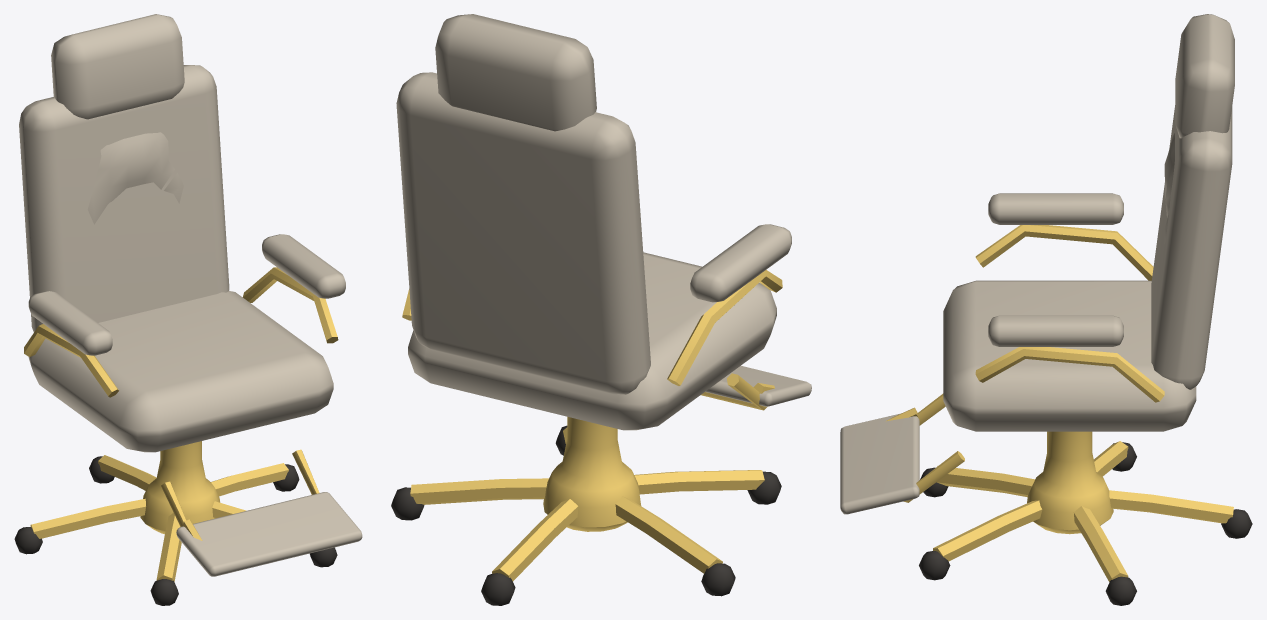
File: chair_styling_hydraulic.glb
3 views of the same model, side by side, from view 1: azimuth 30°, elevation 25°; view 2: azimuth 150°, elevation 25°; view 3: azimuth 270°, elevation 25° (orthographic). The views are drawn at different scales.
Visible parts, largest first — view 1: chair_styling_hydraulic; view 2: chair_styling_hydraulic; view 3: chair_styling_hydraulic.
Boxes of the visible parts, bbox=[...] form: chair_styling_hydraulic: bbox=[14, 14, 362, 605]; chair_styling_hydraulic: bbox=[391, 14, 811, 605]; chair_styling_hydraulic: bbox=[840, 14, 1252, 605].
Bounding box in the file's own units: 0.7738 × 1.22 × 0.9129.
